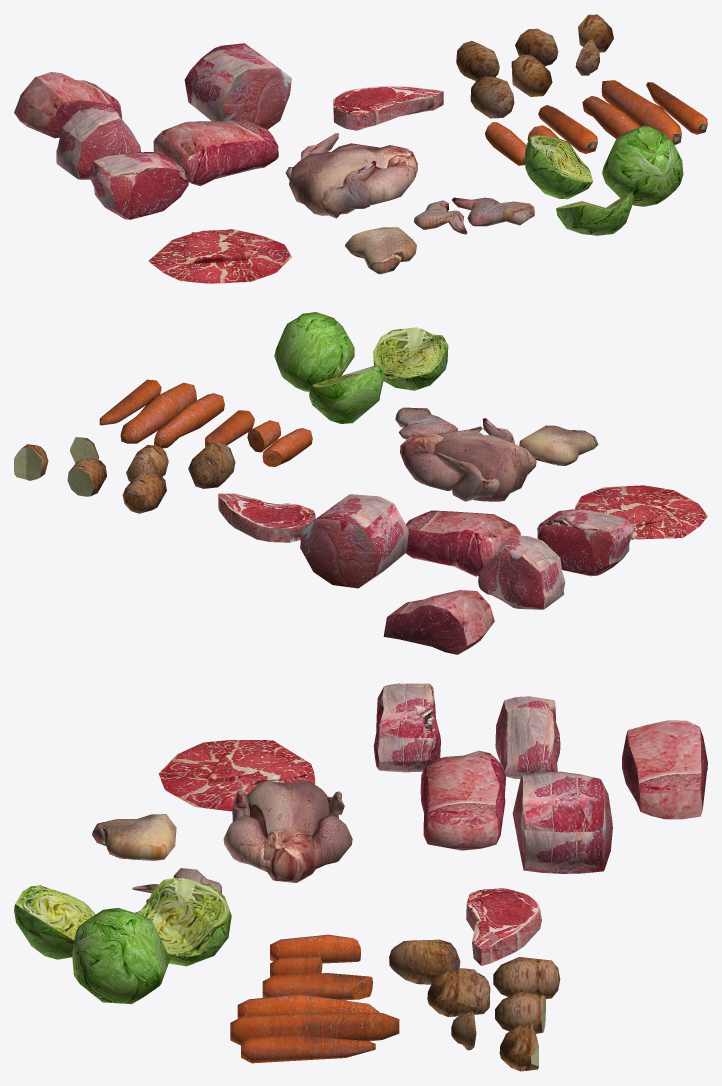
Rendered from raw_foods.FBX.
3 views of the same model, one above another, from view 1: azimuth 30°, elevation 25°; view 2: azimuth 150°, elevation 25°; view 3: azimuth 270°, elevation 25° (orthographic). The views are drawn at different scales.
Parts seen in each view (by area): view 1: chicken_LOD0, Object11, Object08, Object09, Object13, Line17, Line06, Object12, Object10, Object01, Line11, Line13 (+12 smaller); view 2: chicken_LOD0, Object11, Object09, Object12, Line06, Object13, Object08, Line17, Object02, Object10, Object01, Line13 (+13 smaller); view 3: chicken_LOD0, Object11, Object09, Object12, Line17, Object08, Object01, Object13, Line06, Object10, Object15, Object02 (+13 smaller).
Part boxes in pixels (x1,y1,x2,y2): chicken_LOD0: (285, 133, 417, 218); Object11: (184, 43, 291, 129); Object08: (148, 229, 291, 283); Object09: (153, 118, 278, 186); Object13: (89, 152, 188, 219); Line17: (602, 126, 683, 206); Line06: (56, 104, 140, 179); Object12: (14, 72, 122, 138); Object10: (333, 86, 443, 130); Object01: (525, 135, 592, 199); Line11: (414, 197, 534, 234); Line13: (345, 227, 416, 274); chicken_LOD0: (400, 418, 536, 501); Object11: (300, 494, 408, 588); Object09: (406, 510, 520, 576); Object12: (383, 590, 494, 654); Line06: (478, 535, 565, 609); Object13: (537, 509, 633, 576); Object08: (575, 485, 707, 539); Line17: (274, 312, 354, 391); Object02: (373, 327, 448, 390); Object10: (218, 493, 315, 542); Object01: (309, 364, 384, 423); Line13: (519, 425, 598, 465); chicken_LOD0: (223, 779, 352, 882); Object11: (512, 771, 612, 873); Object09: (420, 750, 505, 850); Object12: (622, 720, 707, 819); Line17: (72, 907, 170, 1004); Object08: (158, 740, 315, 811); Object01: (137, 878, 231, 966); Object13: (373, 683, 440, 772); Line06: (495, 696, 560, 778); Object10: (466, 888, 541, 965); Object15: (230, 1013, 399, 1045); Object02: (14, 885, 95, 959).
Size of what is drawn, in the model's own units: 78.17 by 9.69 by 67.94.
